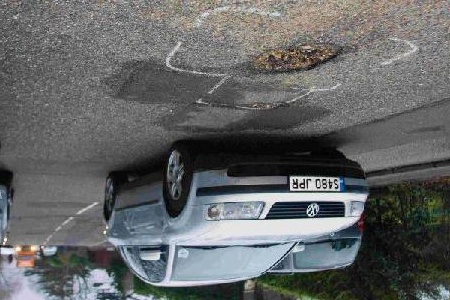pothole: (250, 40, 346, 76), (233, 100, 288, 113)
